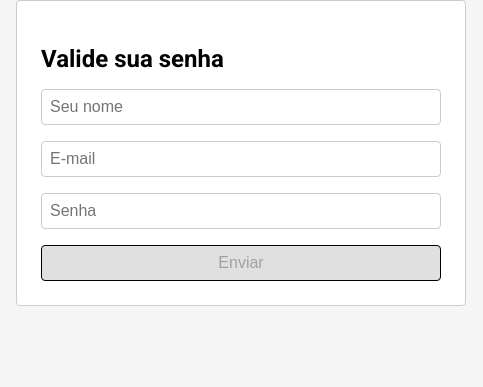
RegisterForm - E2E › deve enviar o formulário com sucesso e limpar os campos
Type "Felipe" into the field with placeholder "Seu nome".
click(241, 107); type("Felipe")  # box top-left (41, 89), bottom-right (441, 125)
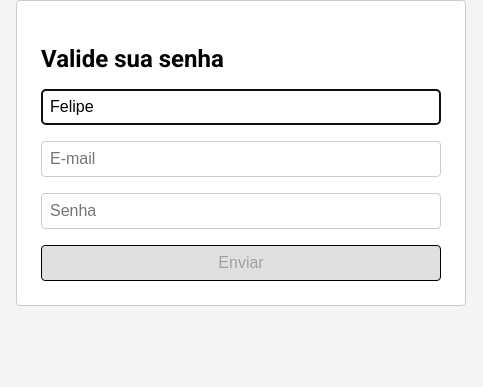
Type "felipe@test.com" into the field with placeholder "E-mail".
click(241, 159); type("felipe@test.com")  # box top-left (41, 141), bottom-right (441, 177)
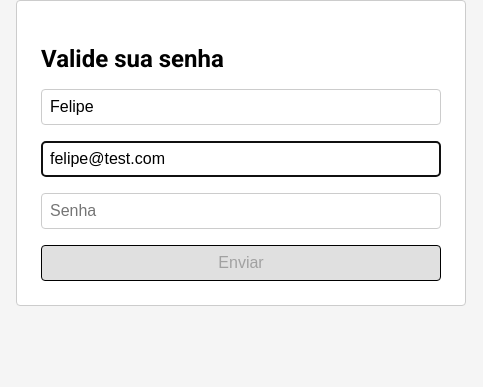
Type "123456" into the password field with placeholder "Senha".
click(241, 211); type("123456")  # box top-left (41, 193), bottom-right (441, 229)
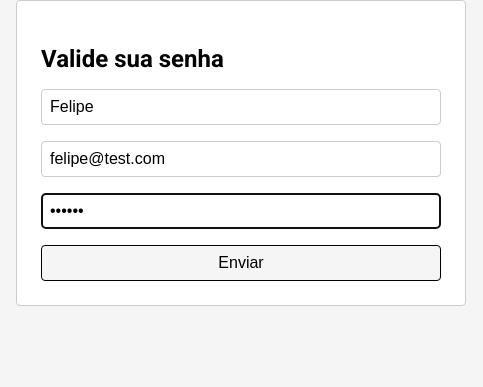
Check: the button "Enviar" is enabled
Click the button "Enviar".
click(241, 263)  # box top-left (41, 245), bottom-right (441, 281)
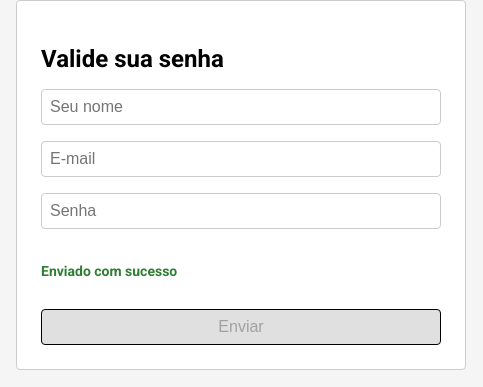
Check: the text "Enviado com sucesso" is shown, box top-left (41, 263), bottom-right (177, 279)
Check: the field with placeholder "Seu nome" is empty, box top-left (41, 89), bottom-right (441, 125)
Check: the field with placeholder "E-mail" is empty, box top-left (41, 141), bottom-right (441, 177)
